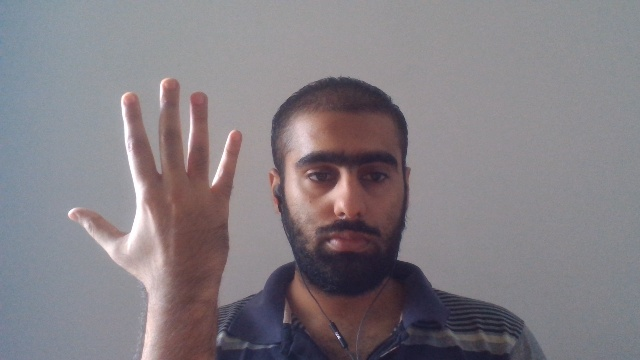paper: (66, 76, 244, 292)
